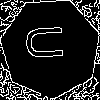U: (25, 23, 73, 61)
